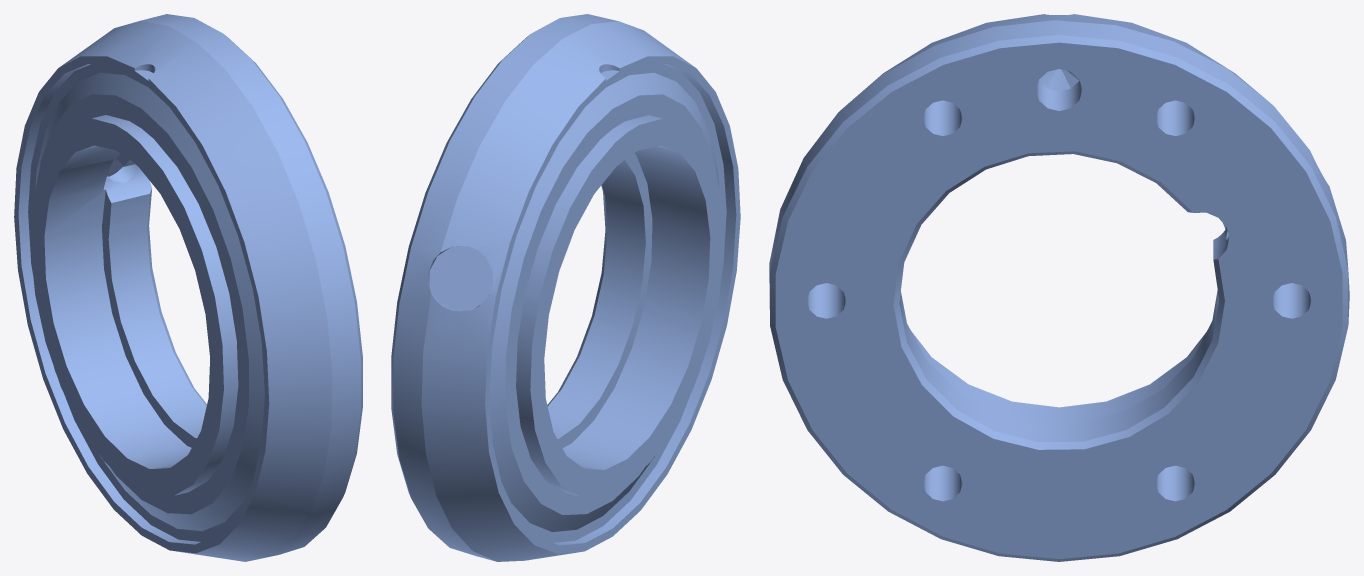
The picture shows the model from 3 angles, left to right: view 1: azimuth 30°, elevation 25°; view 2: azimuth 150°, elevation 25°; view 3: azimuth 270°, elevation 25°; orthographic projection. The views are drawn at different scales.
Visible parts, largest first — view 1: Link6.001; view 2: Link6.001; view 3: Link6.001.
Part boxes in pixels (box(x1,y1,x2,y2)): Link6.001: box(14, 14, 362, 561); Link6.001: box(391, 14, 740, 561); Link6.001: box(769, 14, 1349, 561).
Bounding box in the file's own units: 0.021 × 0.0998 × 0.1.
